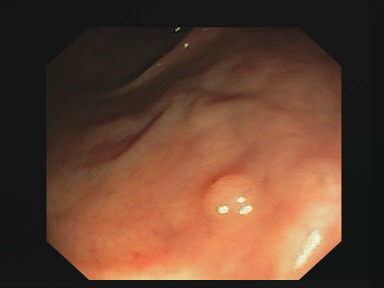polyp: (185, 161, 277, 230)
